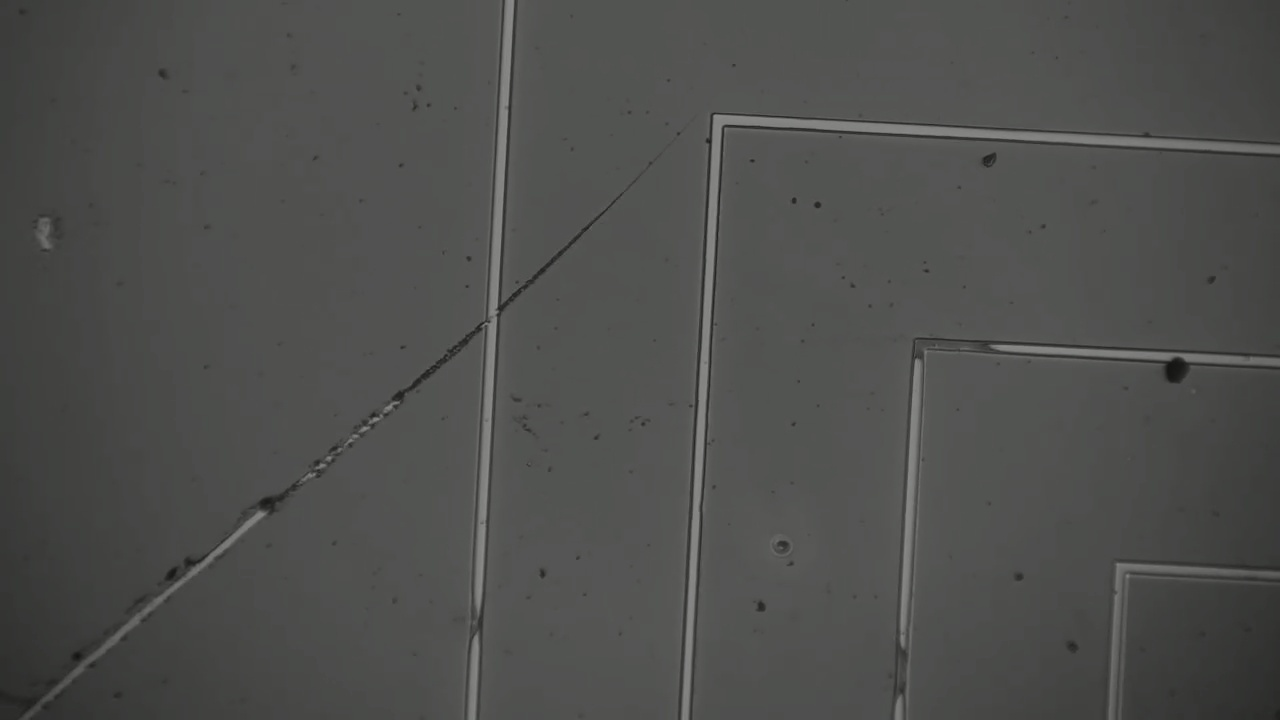gray_line: (896, 322, 1010, 367), (881, 625, 928, 717), (903, 316, 943, 378), (457, 596, 495, 656)
scratch: (16, 127, 690, 719)
stains_enbedded: (1157, 334, 1205, 401)
